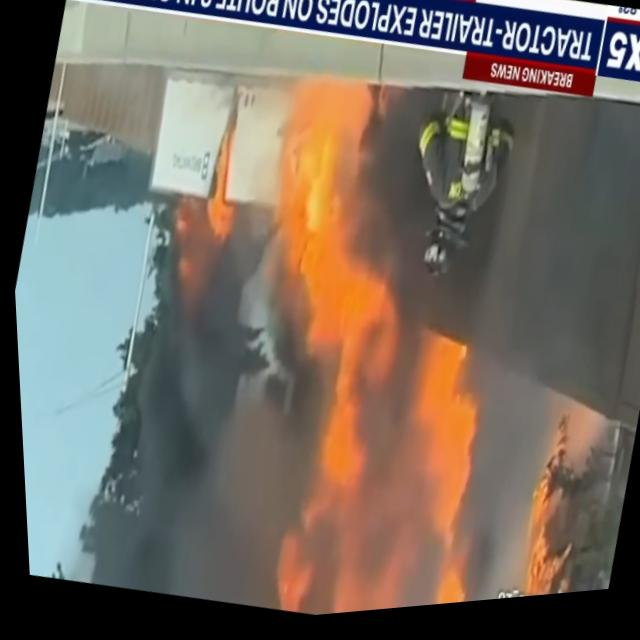Fire: (244, 306, 535, 624), (216, 71, 439, 406), (494, 502, 588, 607)
